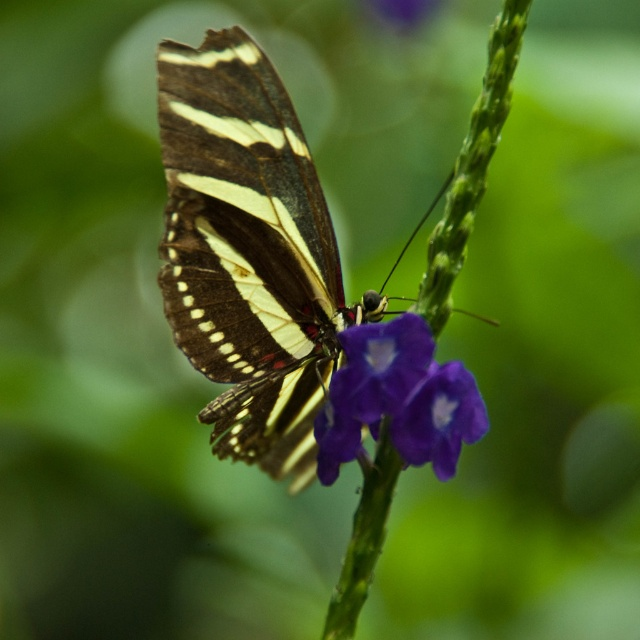Butterfly: (154, 24, 501, 498)
